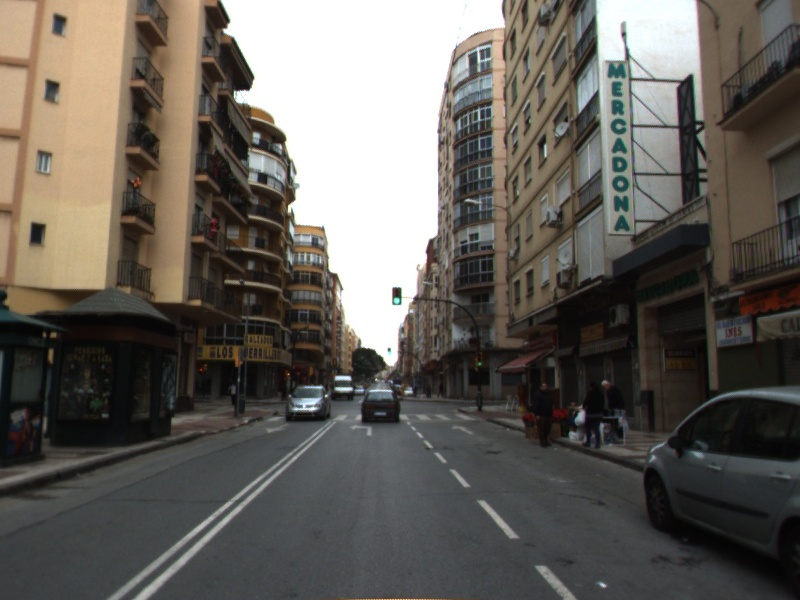LEFT: (347, 423, 374, 437)
STRAIGHT: (450, 423, 475, 436)
